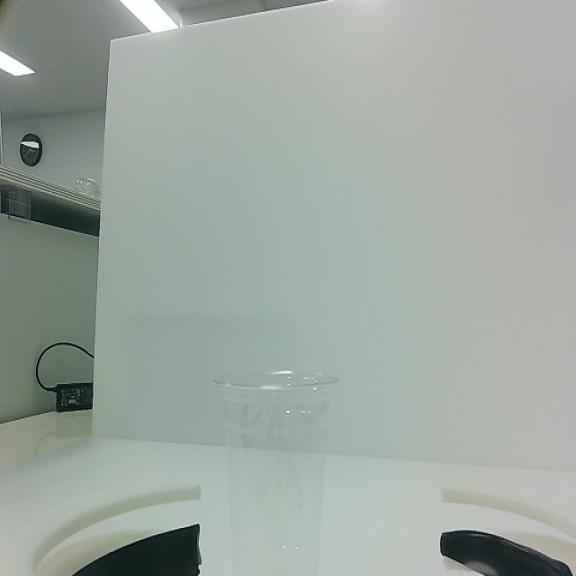Plastik: (215, 370, 342, 576)
